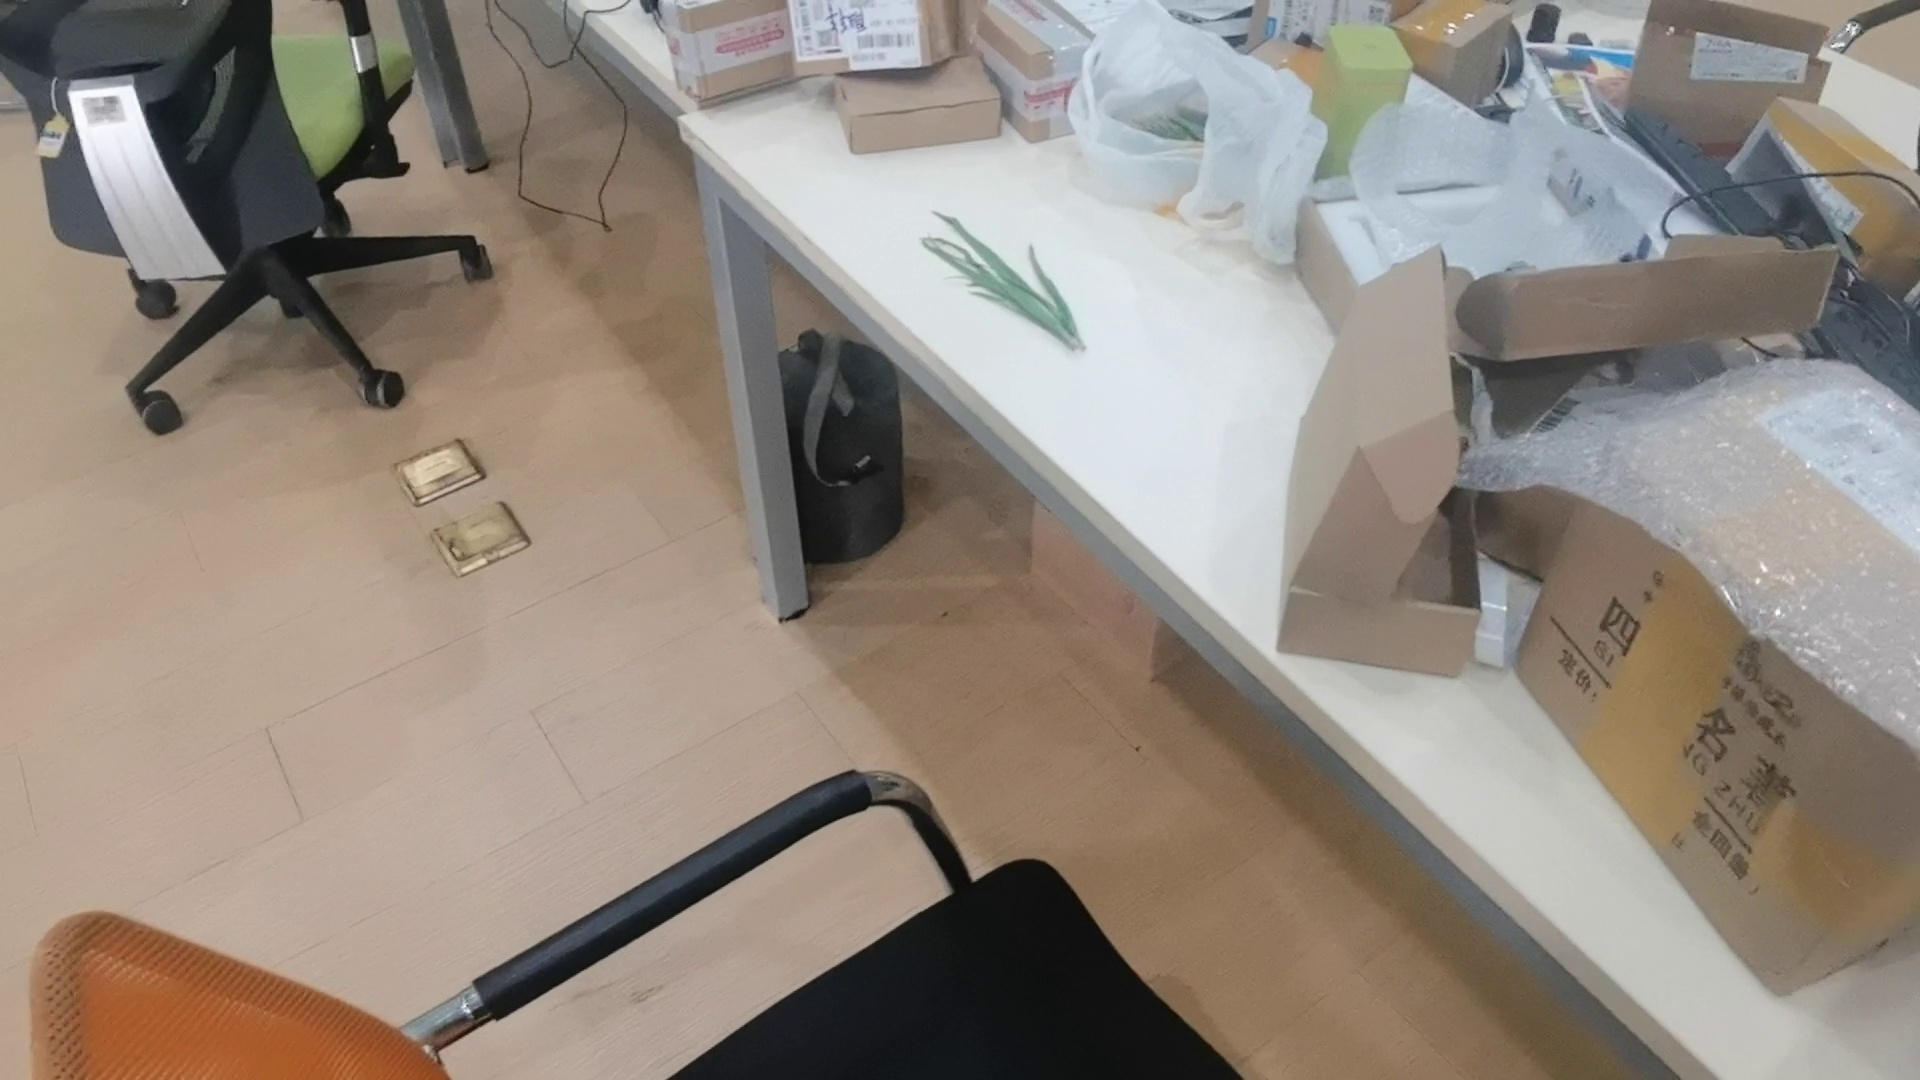chives: (922, 200, 1091, 357)
